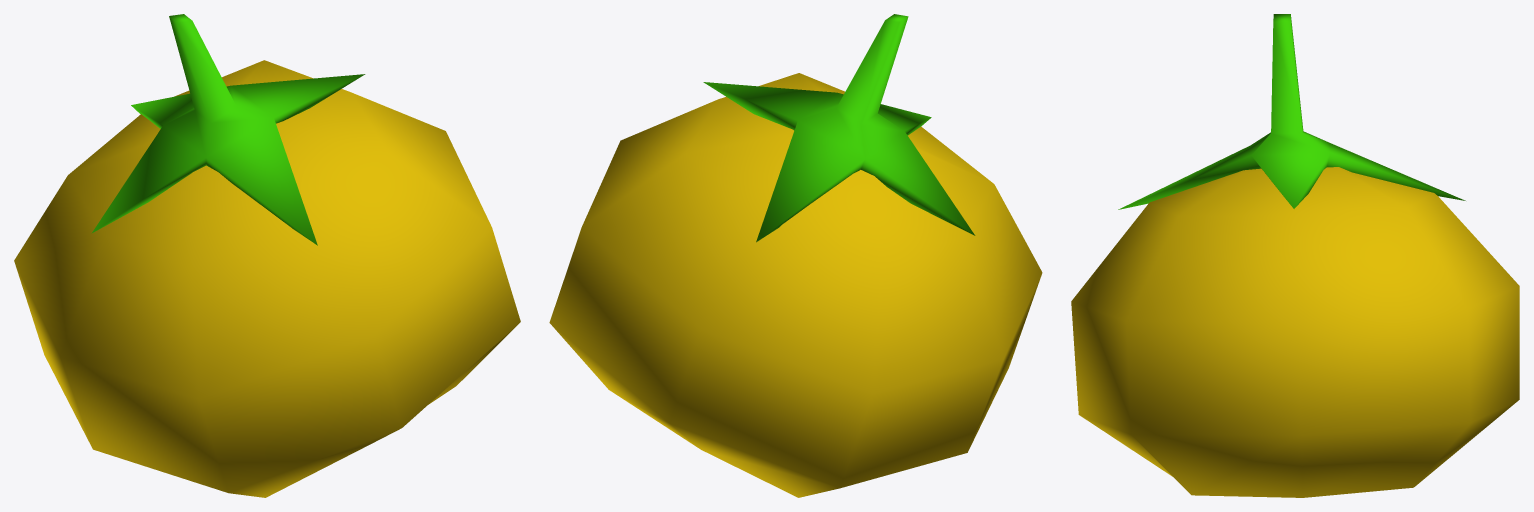
The model's file is TomatoGrow1.fbx.
3 views of the same model, side by side, from view 1: azimuth 30°, elevation 25°; view 2: azimuth 150°, elevation 25°; view 3: azimuth 270°, elevation 25° (orthographic). The views are drawn at different scales.
Parts seen in each view (by area): view 1: TomatoGrow1; view 2: TomatoGrow1; view 3: TomatoGrow1.
Part boxes in pixels (x1=…): TomatoGrow1: x1=14, y1=14, x2=520, y2=497; TomatoGrow1: x1=549, y1=14, x2=1042, y2=497; TomatoGrow1: x1=1071, y1=14, x2=1519, y2=497.
Bounding box in the file's own units: 18.34 × 19.23 × 17.94.
